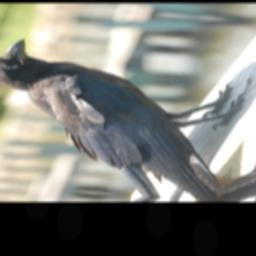Crow: (0, 36, 256, 201)
